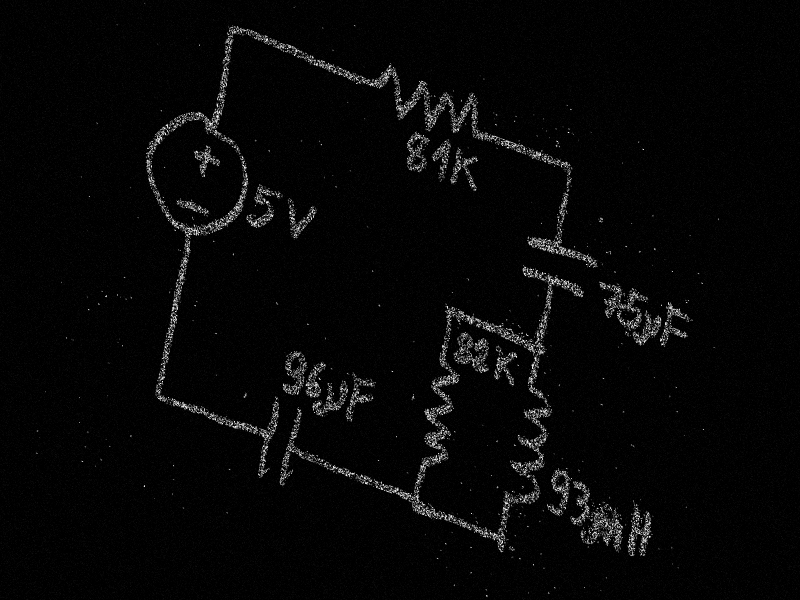1: (426, 132, 454, 188)
2: (471, 334, 494, 377)
3: (566, 478, 594, 530)
5: (245, 178, 284, 238), (620, 282, 649, 338)
6: (303, 355, 327, 402)
7: (592, 276, 628, 328)
8: (401, 127, 432, 178), (450, 327, 476, 369)
9: (277, 345, 309, 400), (543, 464, 572, 520)
F: (344, 370, 377, 430), (659, 300, 692, 357)
H: (623, 499, 655, 563)
V: (279, 194, 320, 248)
k: (449, 143, 484, 199), (490, 344, 520, 389)
m: (585, 507, 626, 556)
u: (318, 374, 350, 425), (639, 310, 662, 350)
